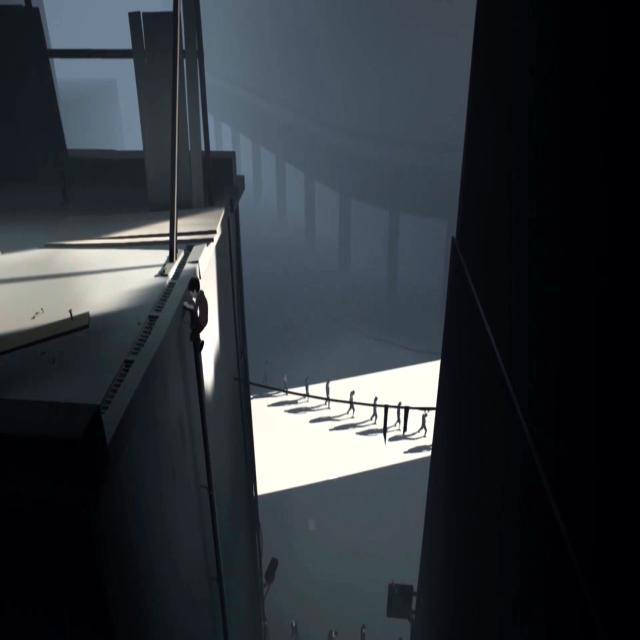boy: (184, 276, 208, 352)
zombie: (418, 411, 428, 438), (346, 389, 355, 418), (261, 615, 270, 640), (370, 397, 378, 424), (394, 402, 401, 431), (324, 379, 330, 409), (290, 619, 298, 640), (327, 629, 338, 640), (305, 376, 310, 400), (264, 360, 268, 388), (282, 373, 287, 394), (361, 623, 366, 640), (397, 636, 404, 640)
